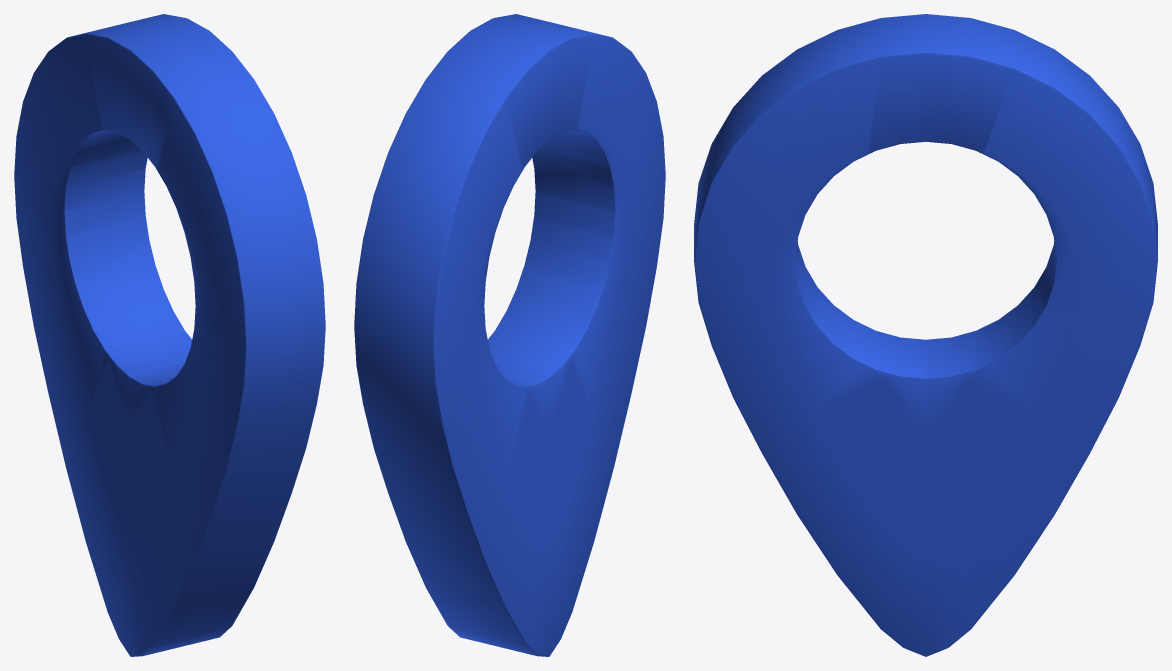
File: BluePins.fbx
3 renders of one model, left to right at view 1: azimuth 30°, elevation 25°; view 2: azimuth 150°, elevation 25°; view 3: azimuth 270°, elevation 25°, orthographic.
Parts seen in each view (by area): view 1: BluePins; view 2: BluePins; view 3: BluePins.
Boxes of the visible parts, x1,y1,x2,y2 form: BluePins: (14,14,325,656); BluePins: (354,14,665,656); BluePins: (694,14,1157,656).
Size of the model in its own units: 69.62 by 100 by 13.91.
